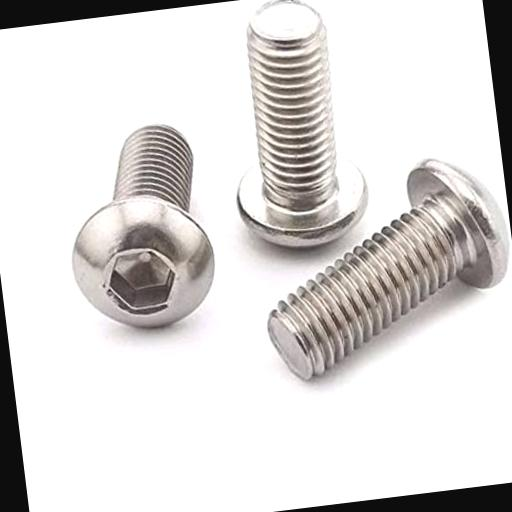Phillips: (64, 186, 223, 340)
